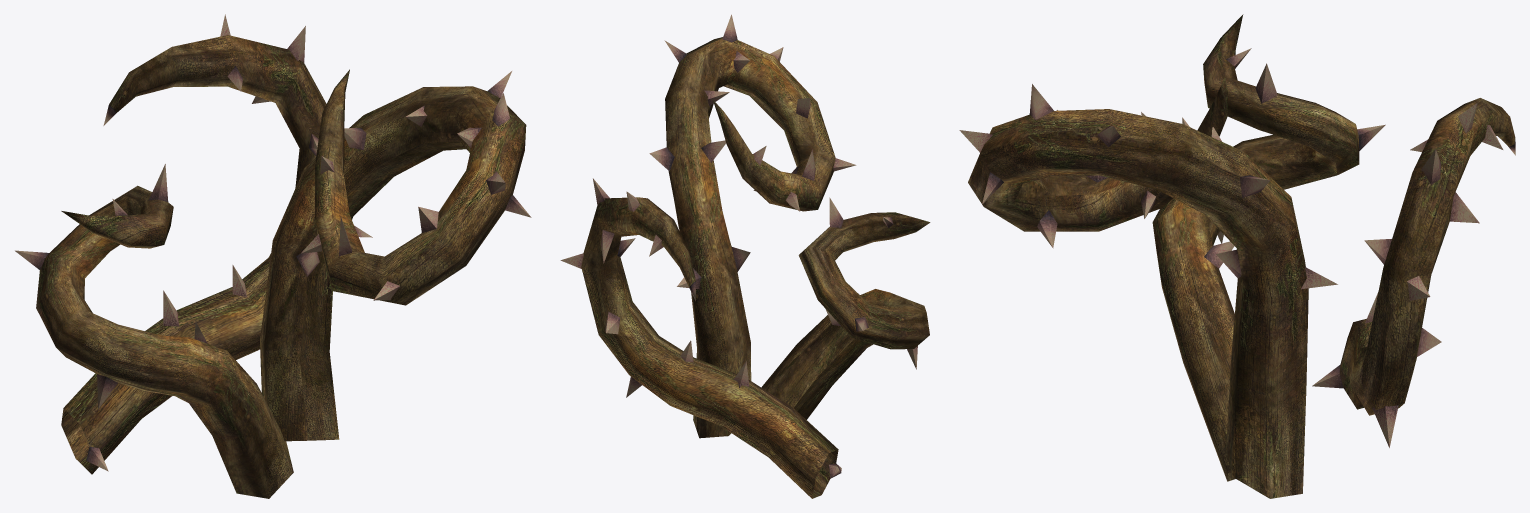
The model's file is obj_mtthund_thorn03a.fbx.
3 renders of one model, left to right at view 1: azimuth 30°, elevation 25°; view 2: azimuth 150°, elevation 25°; view 3: azimuth 270°, elevation 25°, orthographic. The views are drawn at different scales.
Parts seen in each view (by area): view 1: Object02; view 2: Object02; view 3: Object02.
Part boxes in pixels (left/top/right/bottom): Object02: left=15, top=14, right=531, bottom=498; Object02: left=560, top=14, right=930, bottom=498; Object02: left=959, top=14, right=1515, bottom=498.
Size of the model in its own units: 8.38 by 8.88 by 9.43.
